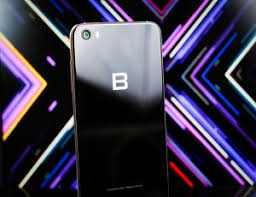bphone: (64, 20, 170, 197)
